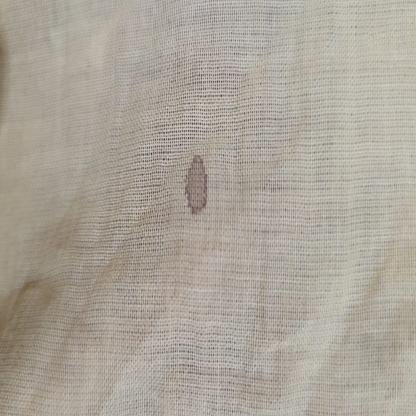spot: (180, 139, 216, 223)
